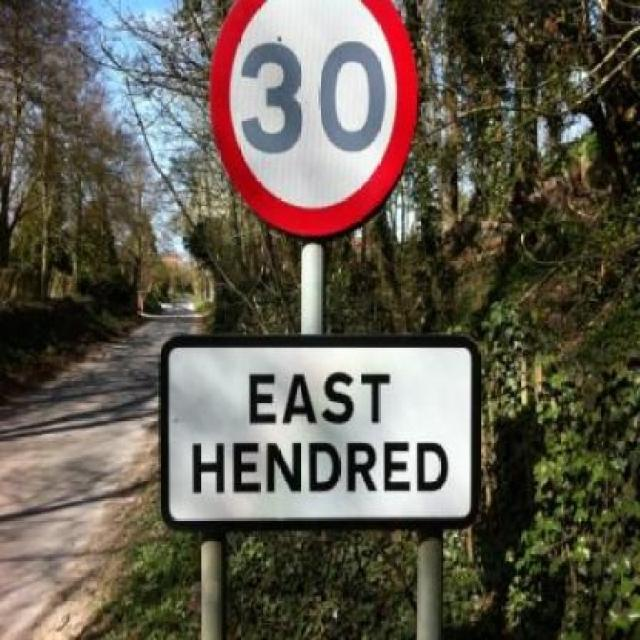forb_speed_over_30: (212, 5, 423, 233)
